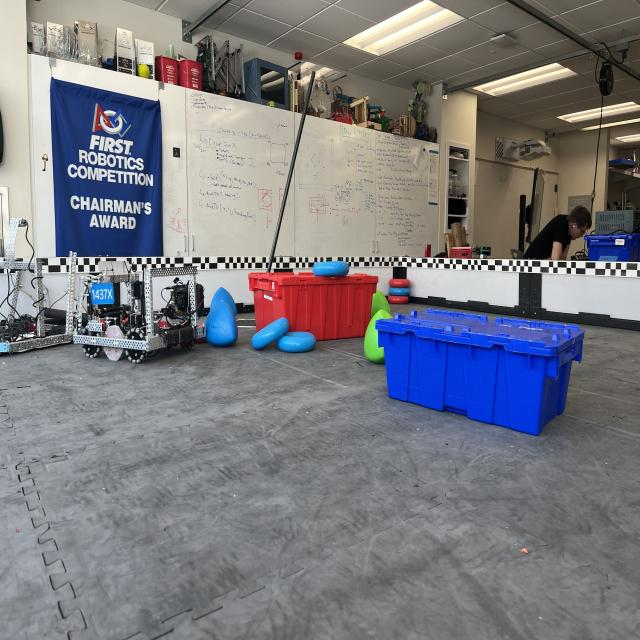Blue-Ring: (251, 317, 289, 350), (276, 332, 316, 352), (312, 262, 349, 277), (389, 288, 410, 296)
Red-Ring: (387, 295, 409, 304), (389, 279, 410, 287)
